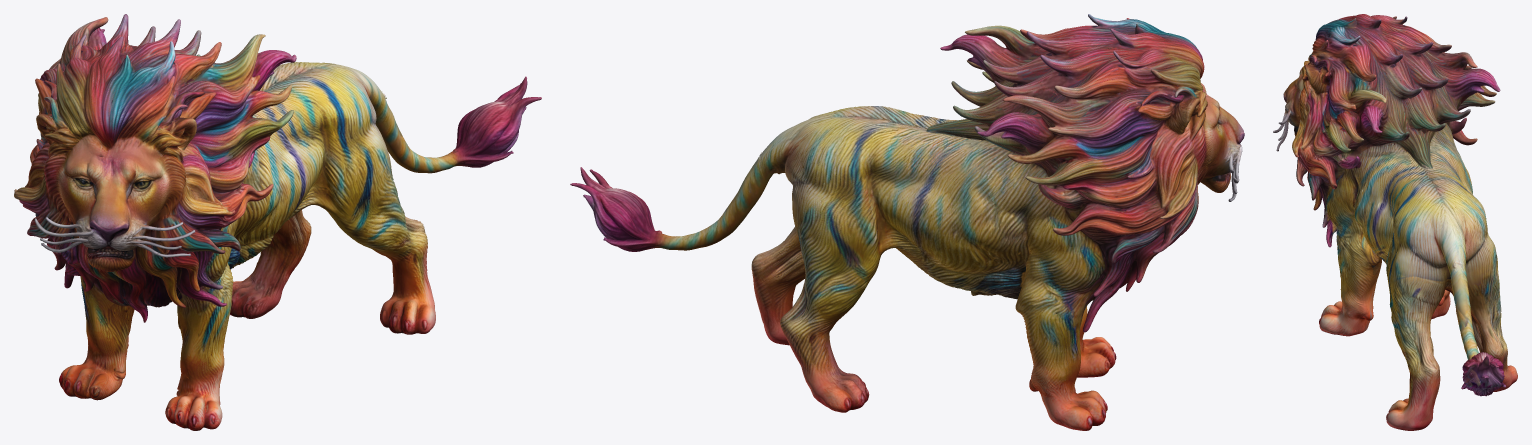
The picture shows the model from 3 angles, left to right: view 1: azimuth 30°, elevation 25°; view 2: azimuth 150°, elevation 25°; view 3: azimuth 270°, elevation 25°; orthographic projection. The views are drawn at different scales.
Visible parts, largest first — view 1: tripo_node_82d54b43-fc39-45e0-a60d-f55ed96ca425; view 2: tripo_node_82d54b43-fc39-45e0-a60d-f55ed96ca425; view 3: tripo_node_82d54b43-fc39-45e0-a60d-f55ed96ca425.
Part boxes in pixels (x1,y1,x2,y2): tripo_node_82d54b43-fc39-45e0-a60d-f55ed96ca425: (14,14,541,430); tripo_node_82d54b43-fc39-45e0-a60d-f55ed96ca425: (570,14,1244,430); tripo_node_82d54b43-fc39-45e0-a60d-f55ed96ca425: (1273,14,1517,430).
Bounding box in the file's own units: 0.9807 × 0.6049 × 0.4627.
Materials: 1 (1 with a texture image).
